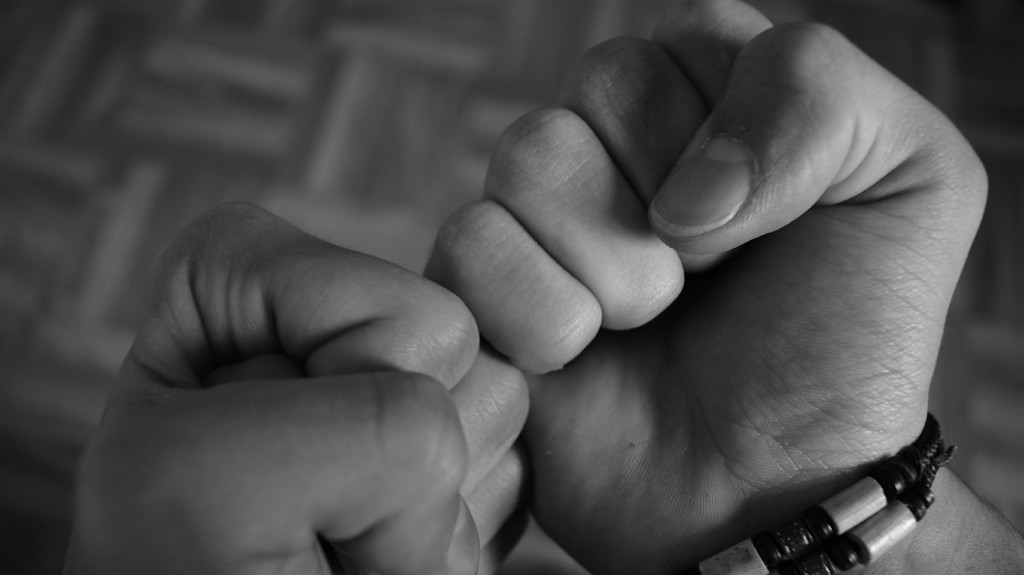Person: (57, 0, 1024, 575)
